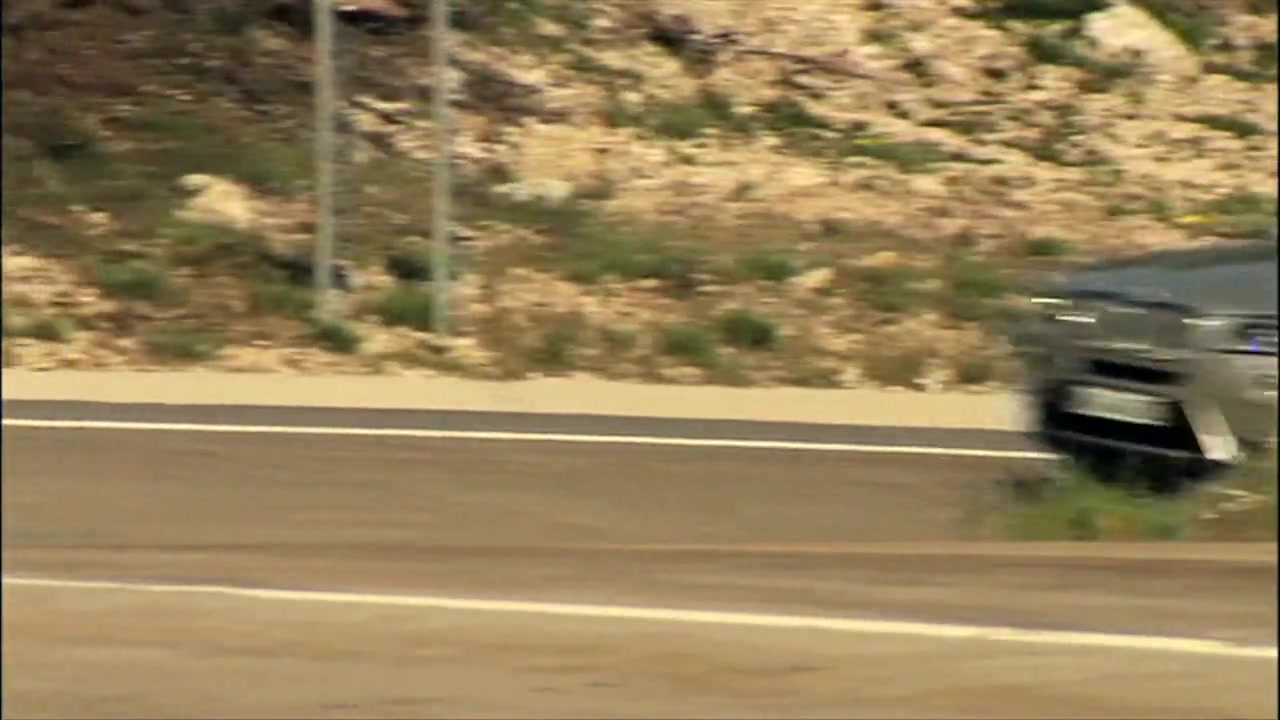car: (1013, 225, 1280, 490)
